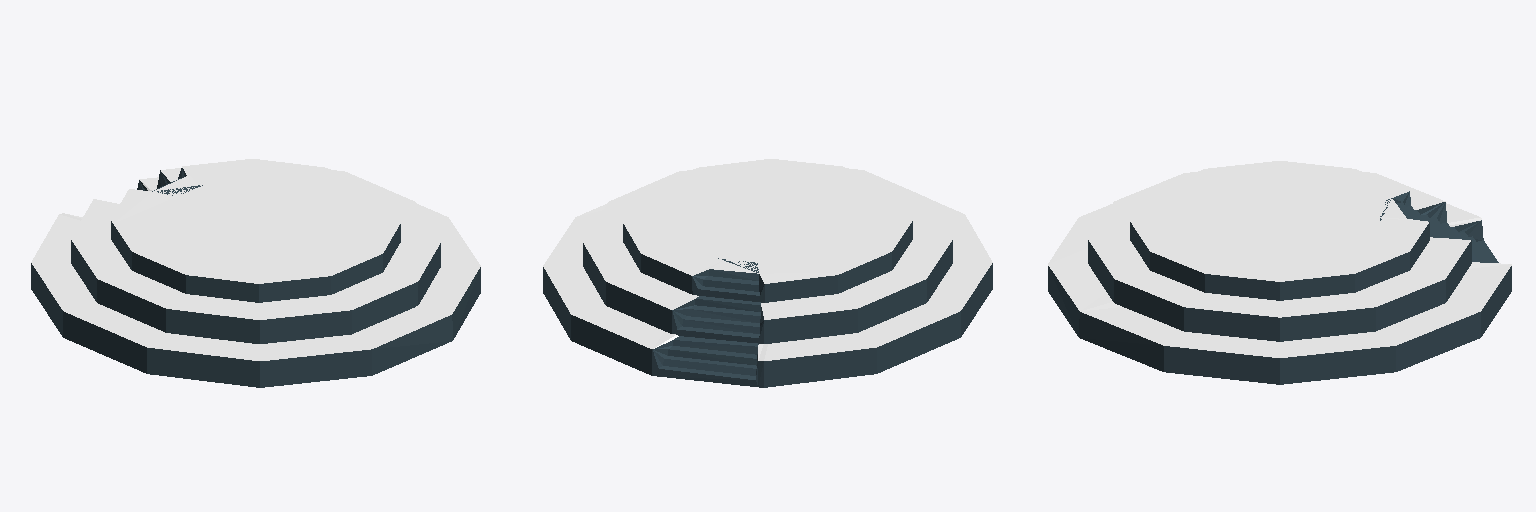
The picture shows the model from 3 angles: view 1: azimuth 30°, elevation 25°; view 2: azimuth 150°, elevation 25°; view 3: azimuth 270°, elevation 25°; orthographic projection.
Visible parts, largest first — view 1: group[number redacted], group[number redacted], group[number redacted]; view 2: group[number redacted], group[number redacted], group[number redacted]; view 3: group[number redacted], group[number redacted], group[number redacted].
Part boxes in pixels (x1,y1,x2,y2): group[number redacted]: (111, 159, 400, 302); group[number redacted]: (31, 177, 480, 387); group[number redacted]: (71, 168, 440, 343); group[number redacted]: (623, 159, 912, 302); group[number redacted]: (543, 200, 992, 387); group[number redacted]: (583, 168, 952, 343); group[number redacted]: (1130, 161, 1429, 300); group[number redacted]: (1048, 203, 1511, 384); group[number redacted]: (1088, 172, 1471, 341).
Size of the model in its own units: 0.6483 by 0.112 by 0.6769.